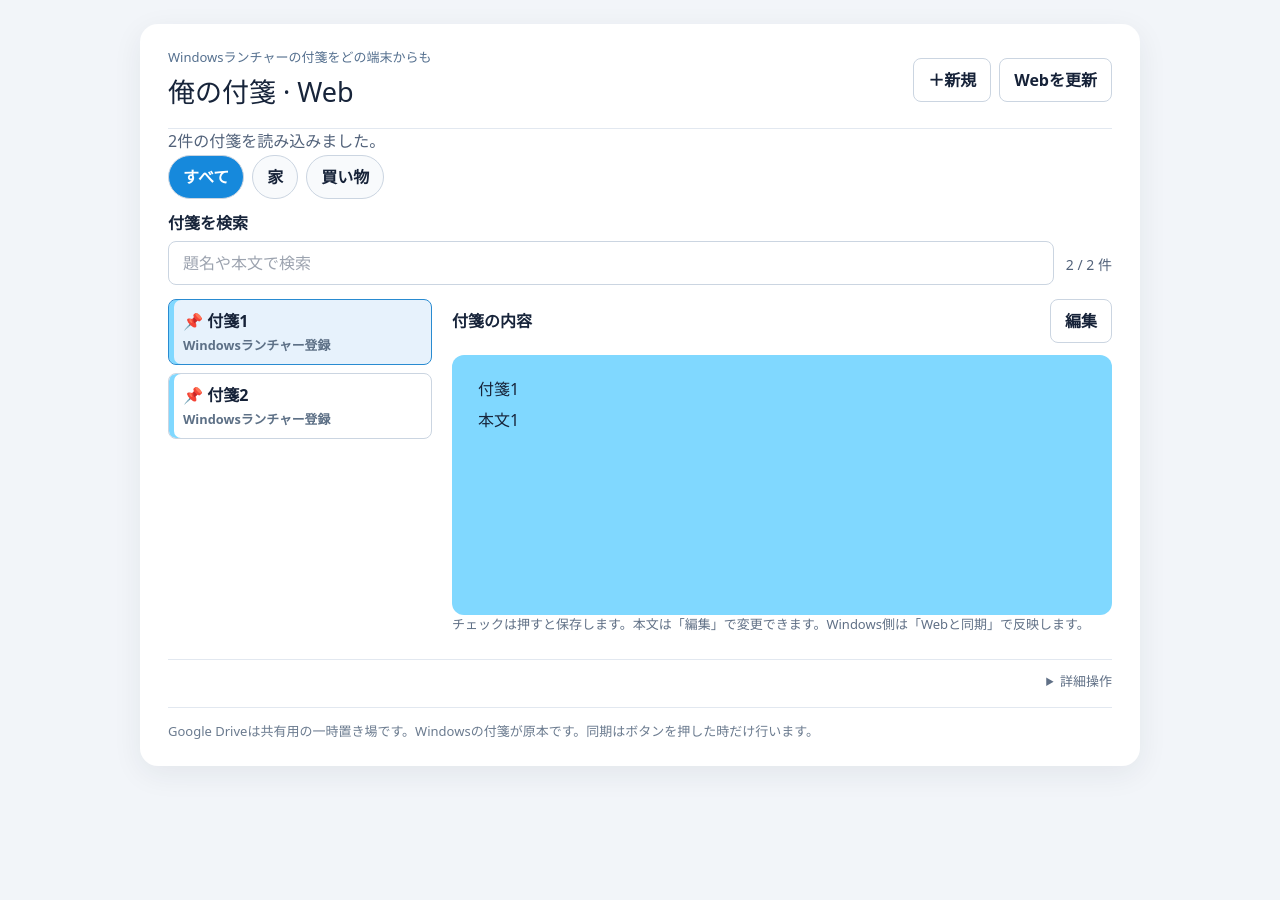
Test: shared note editor › タグ切替で未保存編集を失わない
Check: the text "2件の付箋を読み込みました。" is shown, box [168,130,385,152]
Click the button "編集" at [1081, 321], box [1050,299,1112,343]
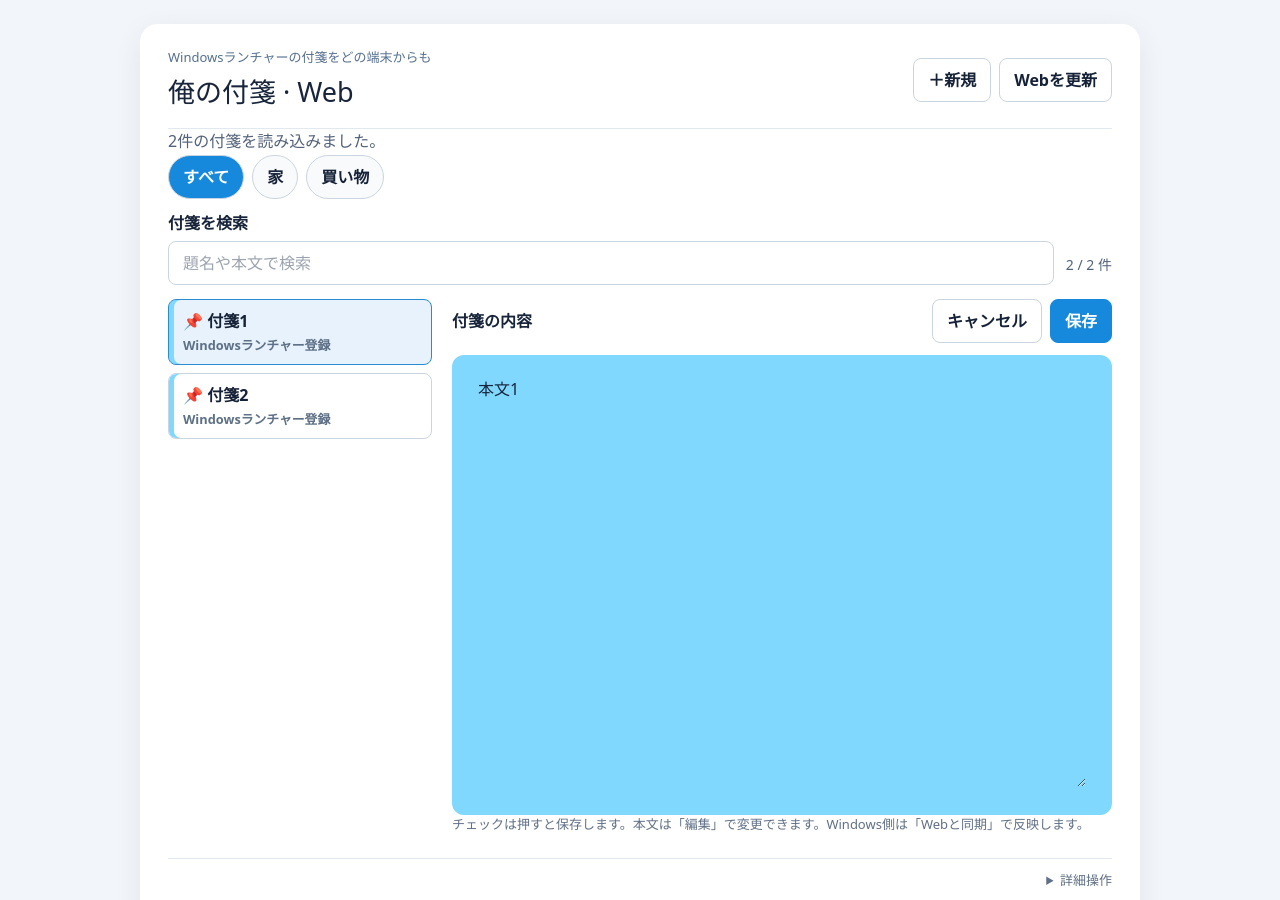
Check: the button "すべて" is disabled, box [168,155,244,199]
Check: the text box named "付箋本文" holds "本文1", box [478,377,1086,786]
